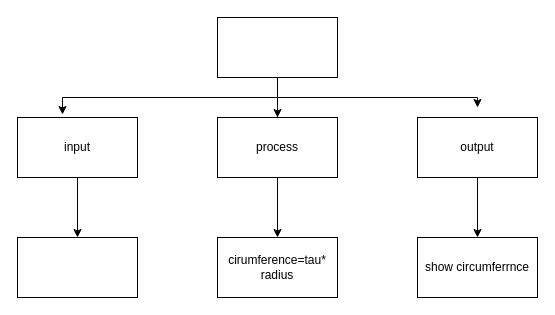
Some shapes in this 555 by 315 pixel diagram are drawn without their labels. Here are the shapes that lost their labels. From the top down, the centre of each, then its label:
At [277,47]: "cirumference".
At [77,267]: "get radius".
